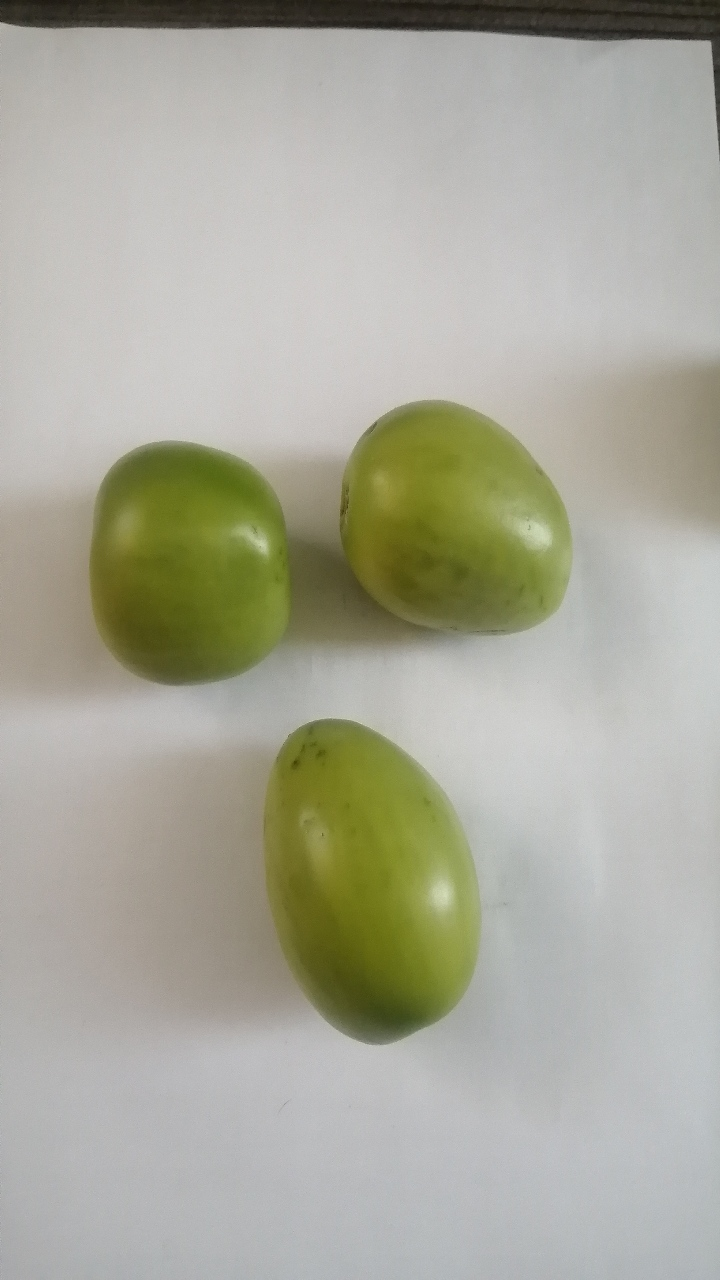tomateVerde: (226, 699, 515, 1052), (295, 362, 608, 666), (51, 414, 304, 706)
